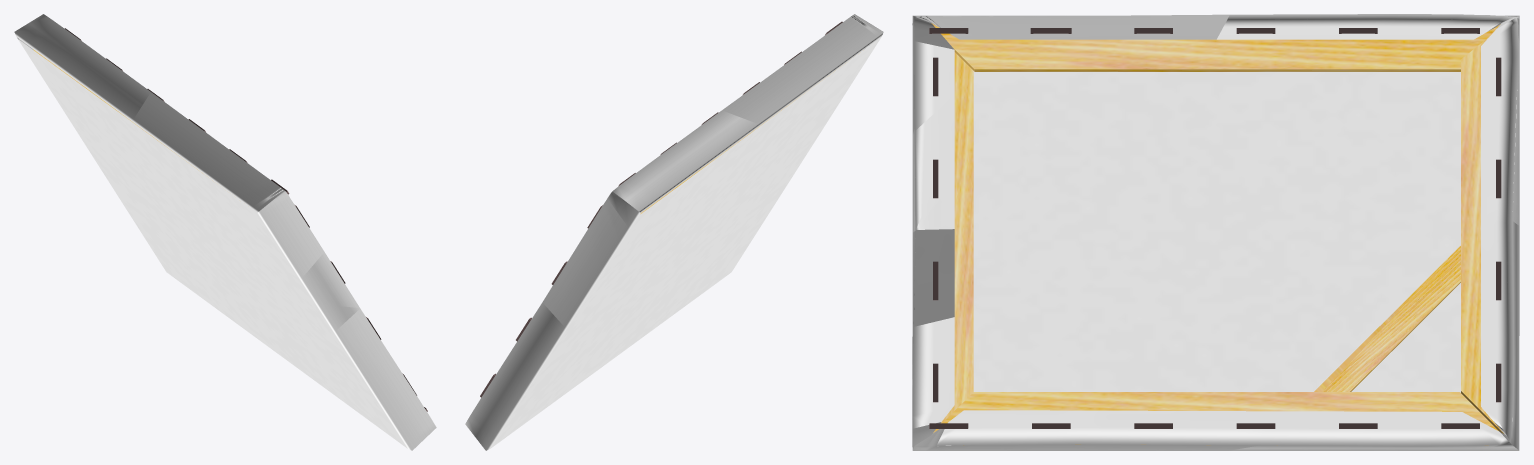
Rendered from canvas.glb.
3 views of the same model, side by side, from view 1: azimuth 30°, elevation 25°; view 2: azimuth 150°, elevation 25°; view 3: azimuth 270°, elevation 25° (orthographic). The views are drawn at different scales.
Visible parts, largest first — view 1: triangle #1244, triangle #1238, triangle #1237, triangle #1062, triangle #1063, triangle #1245, triangle #1156, triangle #1148, triangle #1150, triangle #1149, triangle #1158, triangle #1176 (+14 smaller); view 2: triangle #1244, triangle #1238, triangle #1237, triangle #1245, triangle #1156, triangle #1148, triangle #1150, triangle #1149, triangle #1124, triangle #1122, triangle #1151, triangle #1158 (+10 smaller); view 3: triangle #1244, triangle #1237, triangle #1238, triangle #826, triangle #828, triangle #860, triangle #1245, triangle #844, triangle #858, triangle #812, triangle #842, triangle #810 (+37 smaller).
Boxes of the visible parts, x1,y1,x2,y2 form: triangle #1244: [89, 151, 400, 437]; triangle #1238: [90, 152, 396, 440]; triangle #1237: [18, 39, 249, 207]; triangle #1062: [336, 308, 398, 368]; triangle #1063: [336, 331, 398, 385]; triangle #1245: [95, 156, 401, 443]; triangle #1156: [164, 121, 229, 149]; triangle #1148: [75, 38, 150, 91]; triangle #1150: [74, 57, 140, 104]; triangle #1149: [77, 57, 150, 105]; triangle #1158: [194, 150, 259, 172]; triangle #1176: [283, 221, 324, 251]; triangle #1244: [569, 40, 877, 326]; triangle #1238: [491, 280, 720, 447]; triangle #1237: [568, 42, 874, 326]; triangle #1245: [572, 263, 736, 325]; triangle #1156: [761, 54, 799, 101]; triangle #1148: [649, 111, 720, 165]; triangle #1150: [673, 118, 738, 167]; triangle #1149: [673, 110, 739, 165]; triangle #1124: [563, 234, 584, 298]; triangle #1122: [542, 268, 564, 326]; triangle #1151: [699, 117, 757, 166]; triangle #1158: [800, 32, 829, 79]; triangle #1244: [973, 71, 1460, 391]; triangle #1237: [1081, 72, 1514, 211]; triangle #1238: [946, 249, 1512, 445]; triangle #826: [951, 24, 1500, 69]; triangle #828: [950, 44, 1455, 69]; triangle #860: [975, 392, 1484, 417]; triangle #1245: [1030, 245, 1460, 391]; triangle #844: [1461, 39, 1486, 386]; triangle #858: [933, 392, 1483, 432]; triangle #812: [948, 72, 973, 416]; triangle #842: [1461, 39, 1503, 433]; triangle #810: [947, 52, 973, 417].
Size of the model in its own units: 19.93 by 31.11 by 47.48.
18 materials, 17 textured.
